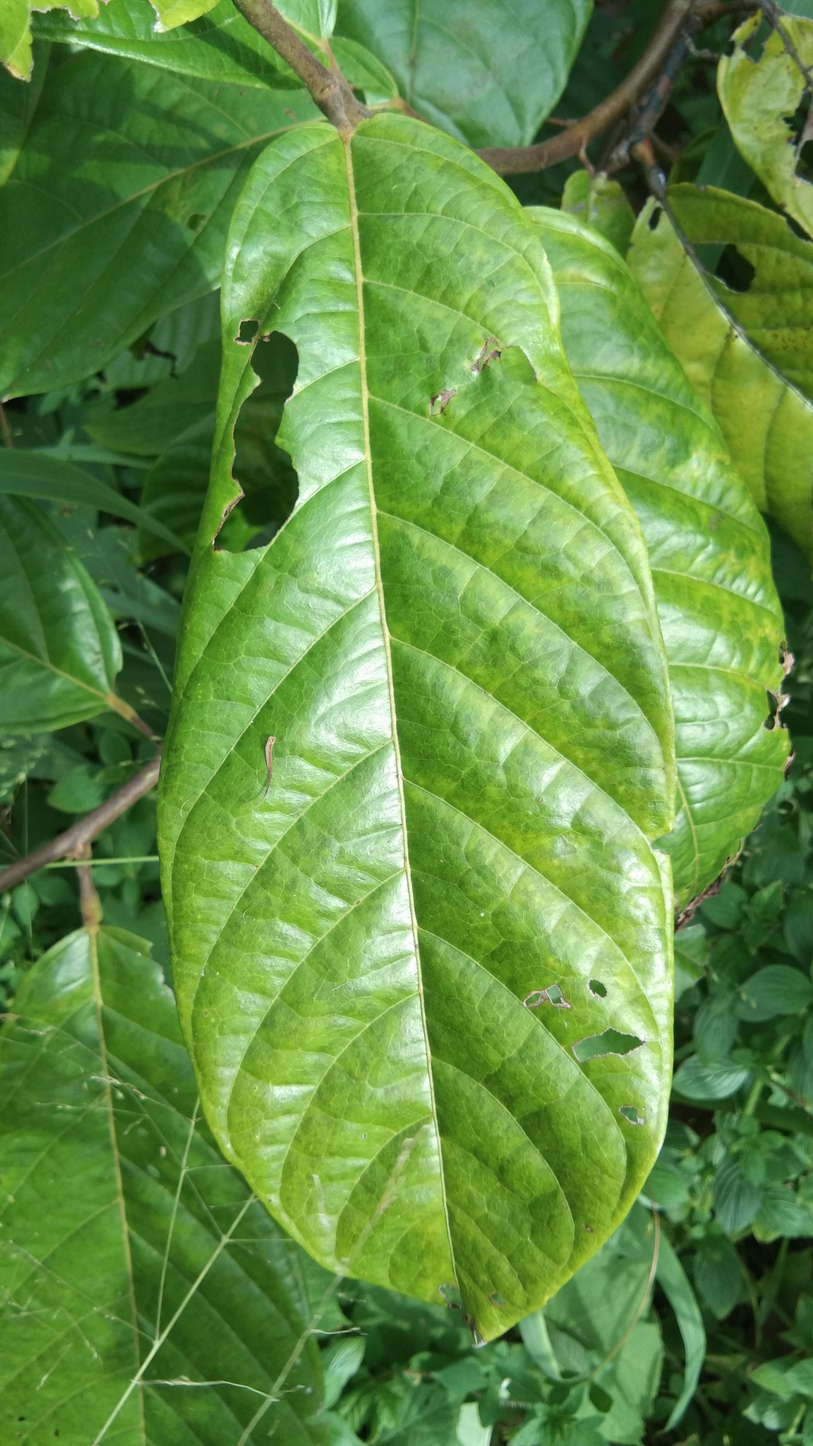deficiencia_potasio: (174, 125, 670, 1339)
